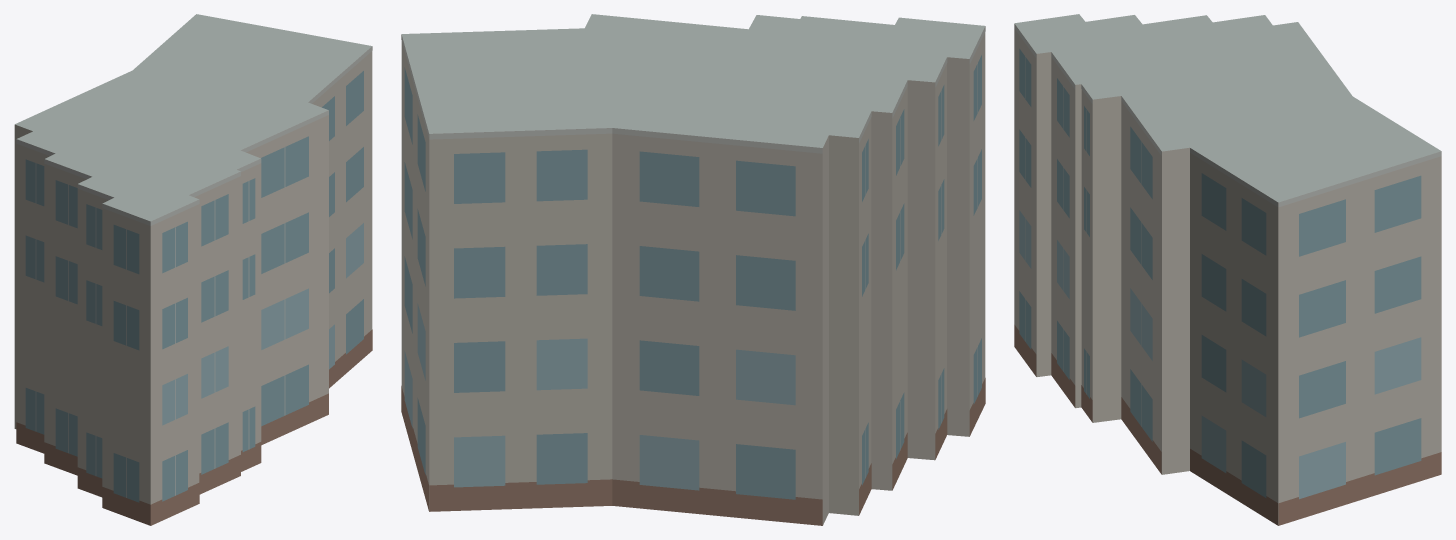
Rendered from survey-upis-32659080.glb.
3 renders of one model, left to right at view 1: azimuth 30°, elevation 25°; view 2: azimuth 150°, elevation 25°; view 3: azimuth 270°, elevation 25°, orthographic. The views are drawn at different scales.
Visible parts, largest first — view 1: survey-upis-32659080.tmp; view 2: survey-upis-32659080.tmp; view 3: survey-upis-32659080.tmp.
Boxes of the visible parts, x1,y1,x2,y2 form: survey-upis-32659080.tmp: (14,14,372,525); survey-upis-32659080.tmp: (401,14,985,525); survey-upis-32659080.tmp: (1014,14,1441,525).
Size of the model in its own units: 20.27 by 16.2 by 19.42.
